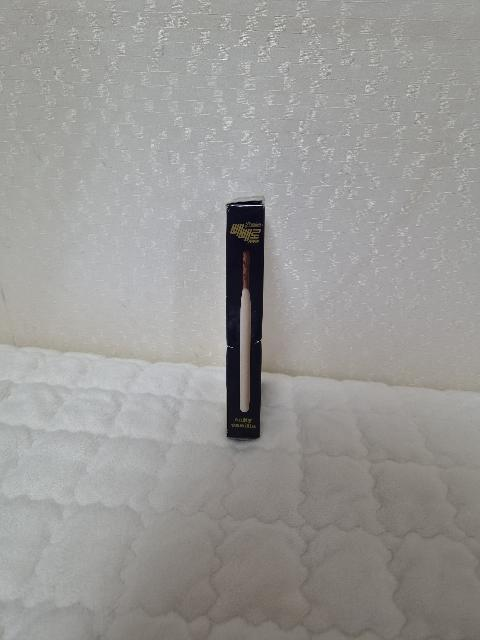pepero: (225, 195, 266, 441)
